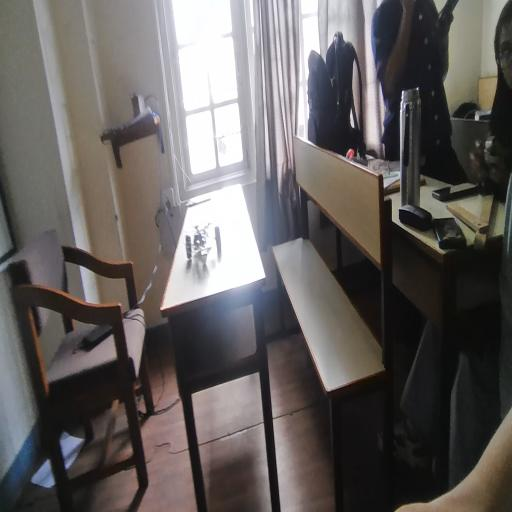car: (171, 199, 227, 271)
